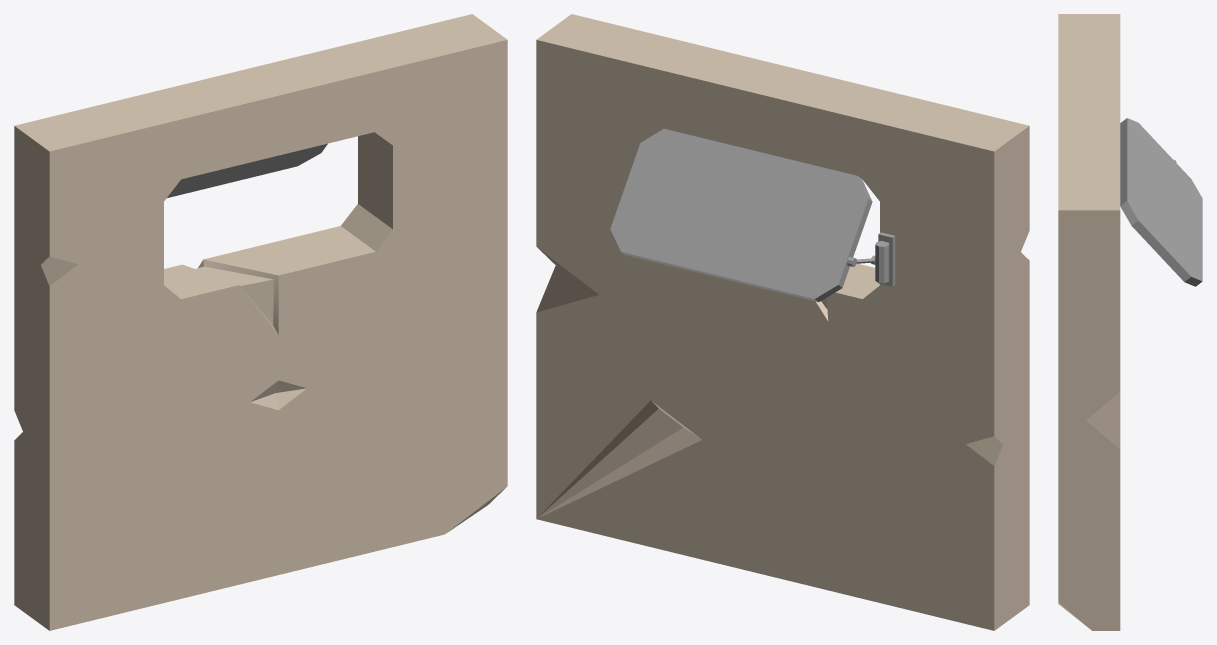
The model's file is Wall_Window_003.fbx.
The picture shows the model from 3 angles, left to right: view 1: azimuth 30°, elevation 25°; view 2: azimuth 150°, elevation 25°; view 3: azimuth 270°, elevation 25°; orthographic projection. The views are drawn at different scales.
Visible parts, largest first — view 1: Wall_Window_003; view 2: Wall_Window_003; view 3: Wall_Window_003.
Part boxes in pixels (x1,y1,x2,y2): Wall_Window_003: [14, 14, 507, 630]; Wall_Window_003: [536, 14, 1029, 630]; Wall_Window_003: [1058, 14, 1202, 630].
Size of the model in its own units: 3 by 3 by 0.933.
